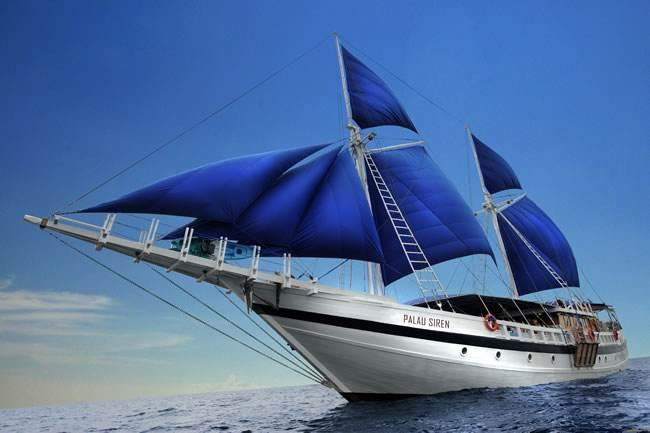fanchuan: (19, 27, 642, 399)
